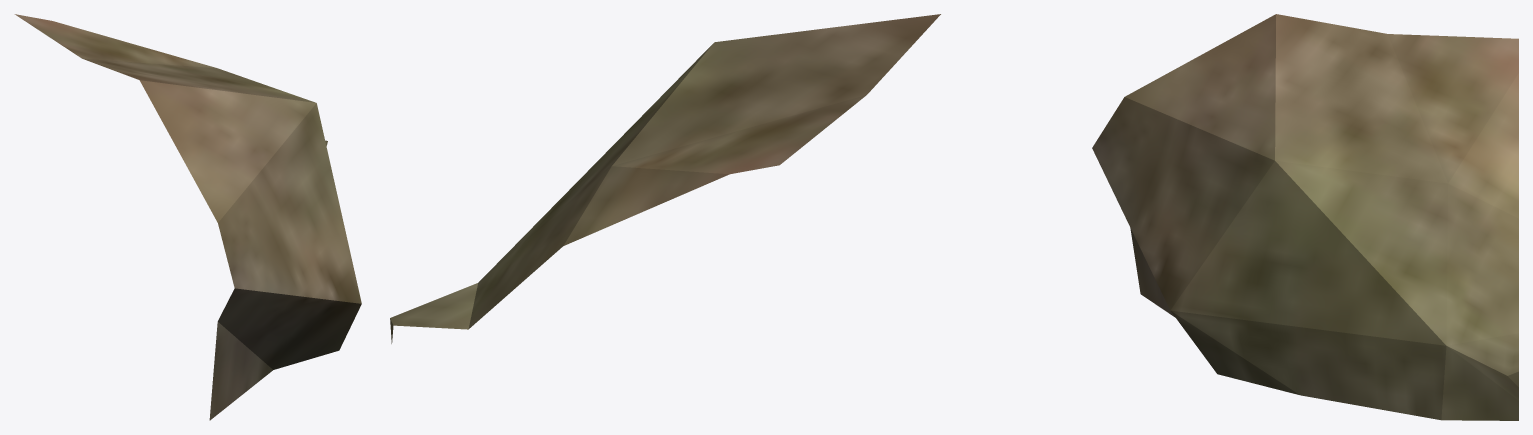
3 renders of one model, left to right at view 1: azimuth 30°, elevation 25°; view 2: azimuth 150°, elevation 25°; view 3: azimuth 270°, elevation 25°, orthographic. The views are drawn at different scales.
Bounding box in the file's own units: 0.3763 × 0.3378 × 0.4664.
Materials: 1 (1 with a texture image).
